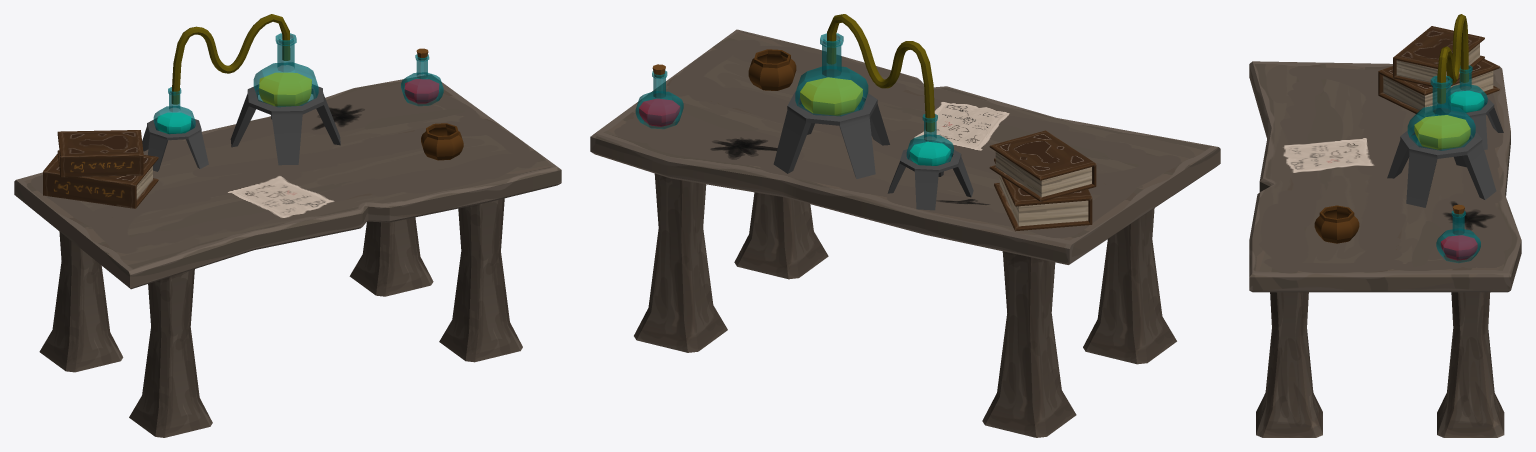
The model's file is AlchemyTable.fbx.
The picture shows the model from 3 angles, left to right: view 1: azimuth 30°, elevation 25°; view 2: azimuth 150°, elevation 25°; view 3: azimuth 270°, elevation 25°; orthographic projection. The views are drawn at different scales.
Parts seen in each view (by area): view 1: Table_Top, Leg_9, Leg_8, Leg_6, Leg_4, Book_2, Book_1, Stand_2, Potion_2, Straw, Stand_1, pPipe9 (+5 smaller); view 2: Table_Top, Leg_6, Leg_4, Leg_9, Leg_8, Book_2, Stand_2, Potion_2, Book_1, Straw, Stand_1, pPipe9 (+5 smaller); view 3: Table_Top, Leg_4, Leg_8, Stand_2, Potion_2, Book_2, Book_1, Straw, pPipe9, Potion_1, Bowl, Potion_3 (+3 smaller).
Part boxes in pixels (bbox=[...]): Table_Top: bbox=[14, 74, 561, 289]; Leg_9: bbox=[129, 269, 212, 437]; Leg_8: bbox=[439, 198, 522, 362]; Leg_6: bbox=[39, 231, 123, 372]; Leg_4: bbox=[349, 217, 433, 296]; Book_2: bbox=[57, 130, 143, 177]; Book_1: bbox=[43, 154, 158, 208]; Stand_2: bbox=[230, 84, 340, 165]; Potion_2: bbox=[253, 33, 318, 107]; Straw: bbox=[171, 14, 290, 104]; Stand_1: bbox=[142, 118, 208, 171]; pPipe9: bbox=[259, 72, 311, 106]; Table_Top: bbox=[590, 29, 1220, 264]; Leg_6: bbox=[982, 251, 1076, 437]; Leg_4: bbox=[634, 173, 727, 352]; Leg_9: bbox=[1083, 208, 1176, 364]; Leg_8: bbox=[734, 192, 828, 279]; Book_2: bbox=[989, 130, 1096, 201]; Stand_2: bbox=[773, 90, 889, 178]; Potion_2: bbox=[795, 33, 868, 116]; Book_1: bbox=[994, 158, 1092, 231]; Straw: bbox=[826, 14, 934, 132]; Stand_1: bbox=[887, 146, 973, 210]; pPipe9: bbox=[800, 77, 862, 115]; Table_Top: bbox=[1249, 61, 1521, 292]; Leg_4: bbox=[1437, 292, 1504, 437]; Leg_8: bbox=[1256, 292, 1322, 437]; Stand_2: bbox=[1387, 126, 1496, 207]; Potion_2: bbox=[1407, 75, 1475, 150]; Book_2: bbox=[1393, 26, 1484, 89]; Book_1: bbox=[1378, 59, 1499, 117]; Straw: bbox=[1437, 14, 1468, 103]; pPipe9: bbox=[1414, 115, 1470, 149]; Potion_1: bbox=[1436, 210, 1480, 263]; Bowl: bbox=[1314, 205, 1359, 243]; Potion_3: bbox=[1445, 65, 1487, 112].
Bounding box in the file's own units: 5.57 × 3.78 × 3.
